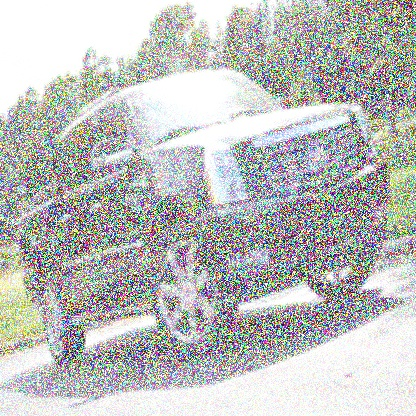Vehicle: (20, 68, 392, 369)
